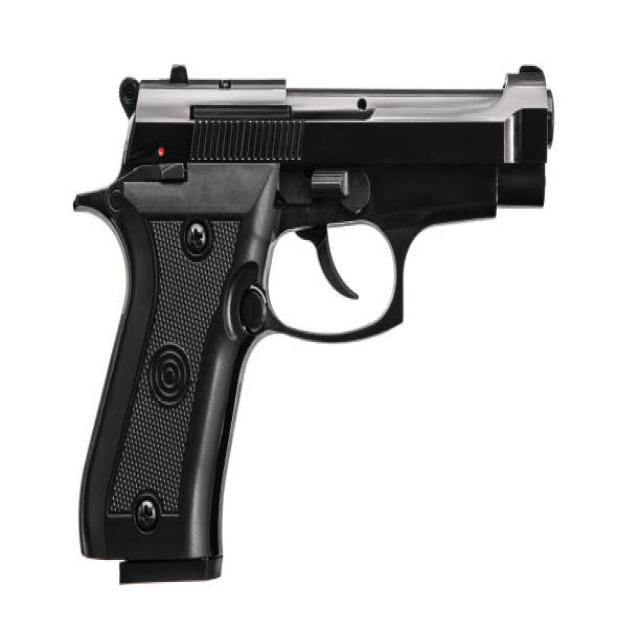pistol: (66, 60, 559, 593)
